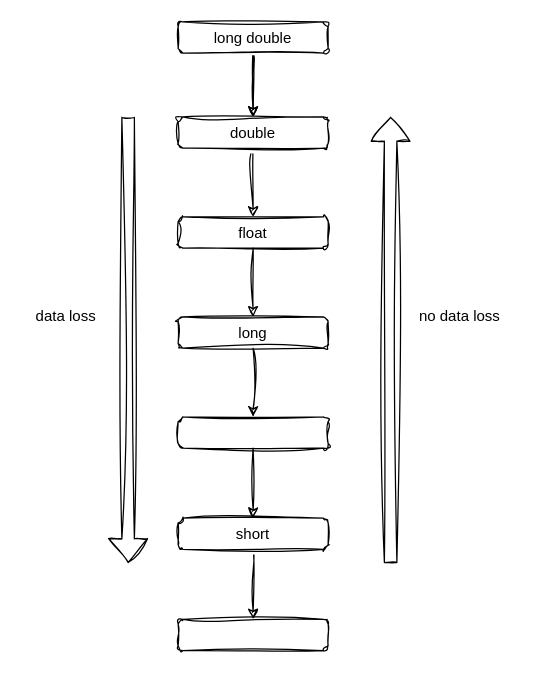
Some shapes in this 536 by 673 pixel diagram are drawn without their labels. Here are the shapes that lost their labels. From the top down, the centre of each, then its label:
At (x=252, y=432): "int".
At (x=252, y=634): "char".
